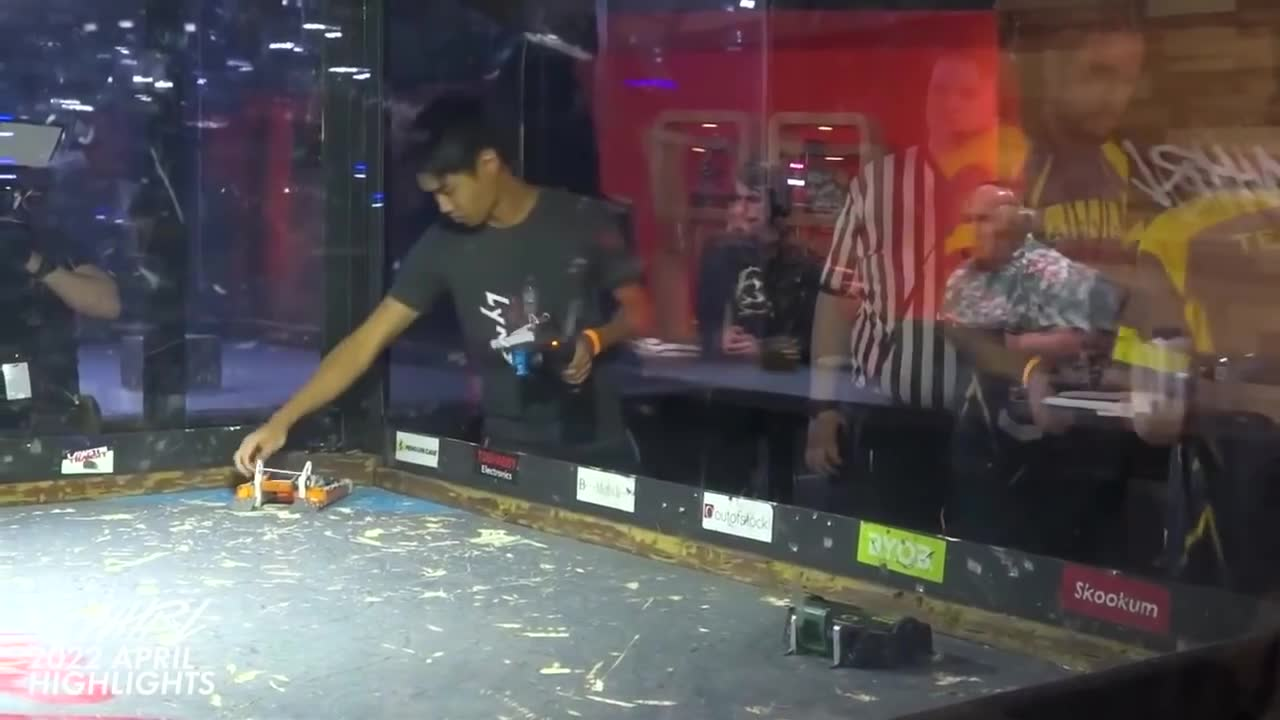combatbot: (782, 591, 933, 670), (227, 468, 354, 515)
